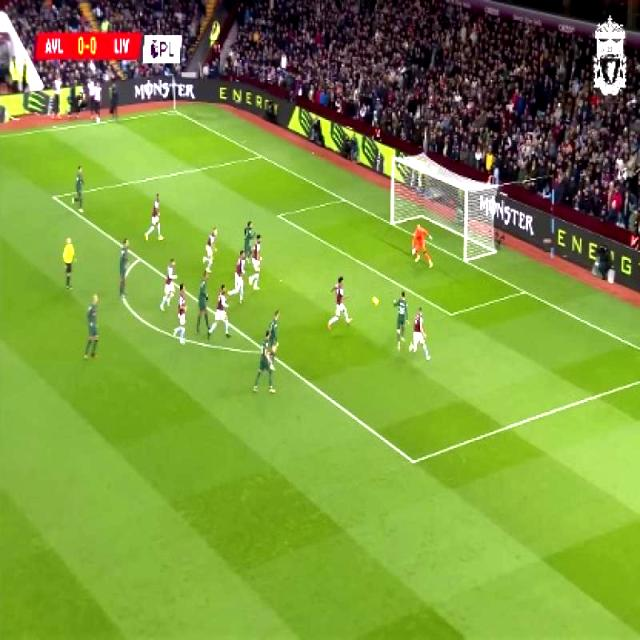bigarea_bottom_inner: (403, 446, 423, 474)
bigarea_top_inner: (46, 186, 62, 206)
bigarea_top_outter: (254, 148, 268, 162)
corner: (165, 103, 183, 117)
smallarea_bottom_inner: (440, 299, 460, 326)
smallarea_bottom_outter: (516, 280, 530, 300)
smallarea_top_inner: (269, 205, 286, 225)
smallarea_top_outter: (336, 189, 350, 208)
top_arc_area_intersection: (131, 248, 146, 266)
